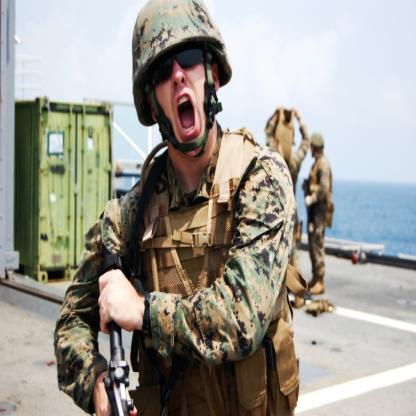Helmet: (130, 0, 238, 158), (309, 133, 326, 157)
